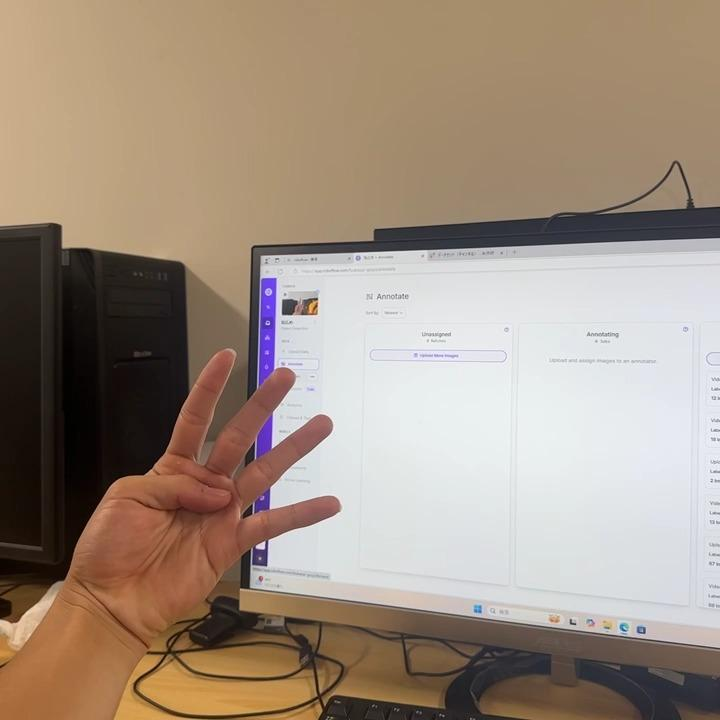without_gloves: (71, 322, 373, 611)
